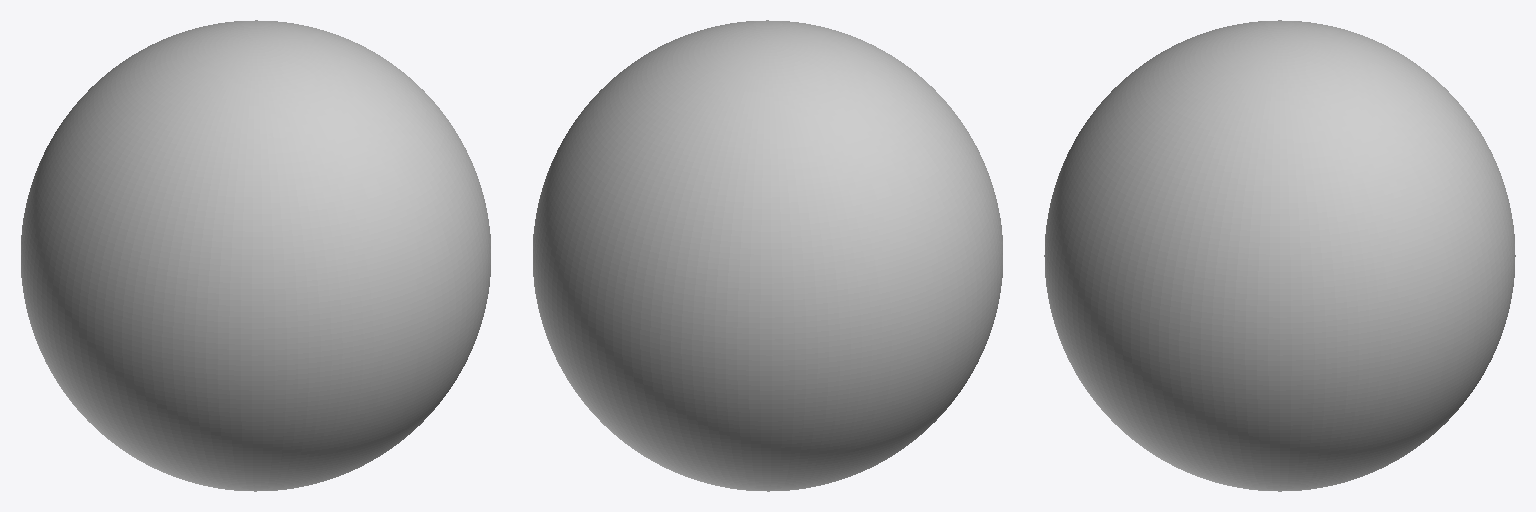
File: jupiter.obj
3 renders of one model, left to right at view 1: azimuth 30°, elevation 25°; view 2: azimuth 150°, elevation 25°; view 3: azimuth 270°, elevation 25°, orthographic.
Parts seen in each view (by area): view 1: Moon_Sphere.006; view 2: Moon_Sphere.006; view 3: Moon_Sphere.006.
Part boxes in pixels (x1,y1,x2,y2): Moon_Sphere.006: (21,20,490,491); Moon_Sphere.006: (533,20,1002,491); Moon_Sphere.006: (1044,20,1515,491).
Bounding box in the file's own units: 9.11 × 9.11 × 9.11.